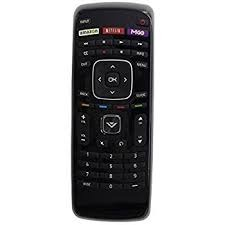remote control: (74, 11, 153, 206)
